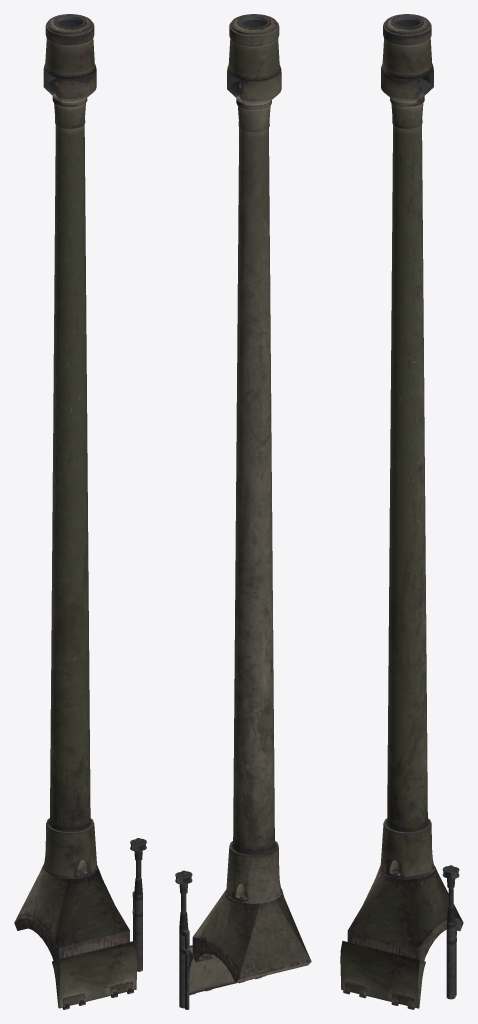
File: Gun_02.glb
3 renders of one model, left to right at view 1: azimuth 30°, elevation 25°; view 2: azimuth 210°, elevation 25°; view 3: azimuth 330°, elevation 25°, orthographic. The views are drawn at different scales.
Visible parts, largest first — view 1: set_0_group_0; view 2: set_0_group_0; view 3: set_0_group_0.
Boxes of the visible parts, x1,y1,x2,y2 form: set_0_group_0: (14, 14, 146, 1009); set_0_group_0: (175, 14, 311, 1009); set_0_group_0: (340, 14, 463, 1009).
Bounding box in the file's own units: 0.7064 × 6.35 × 0.599.
1 material, 1 textured.
